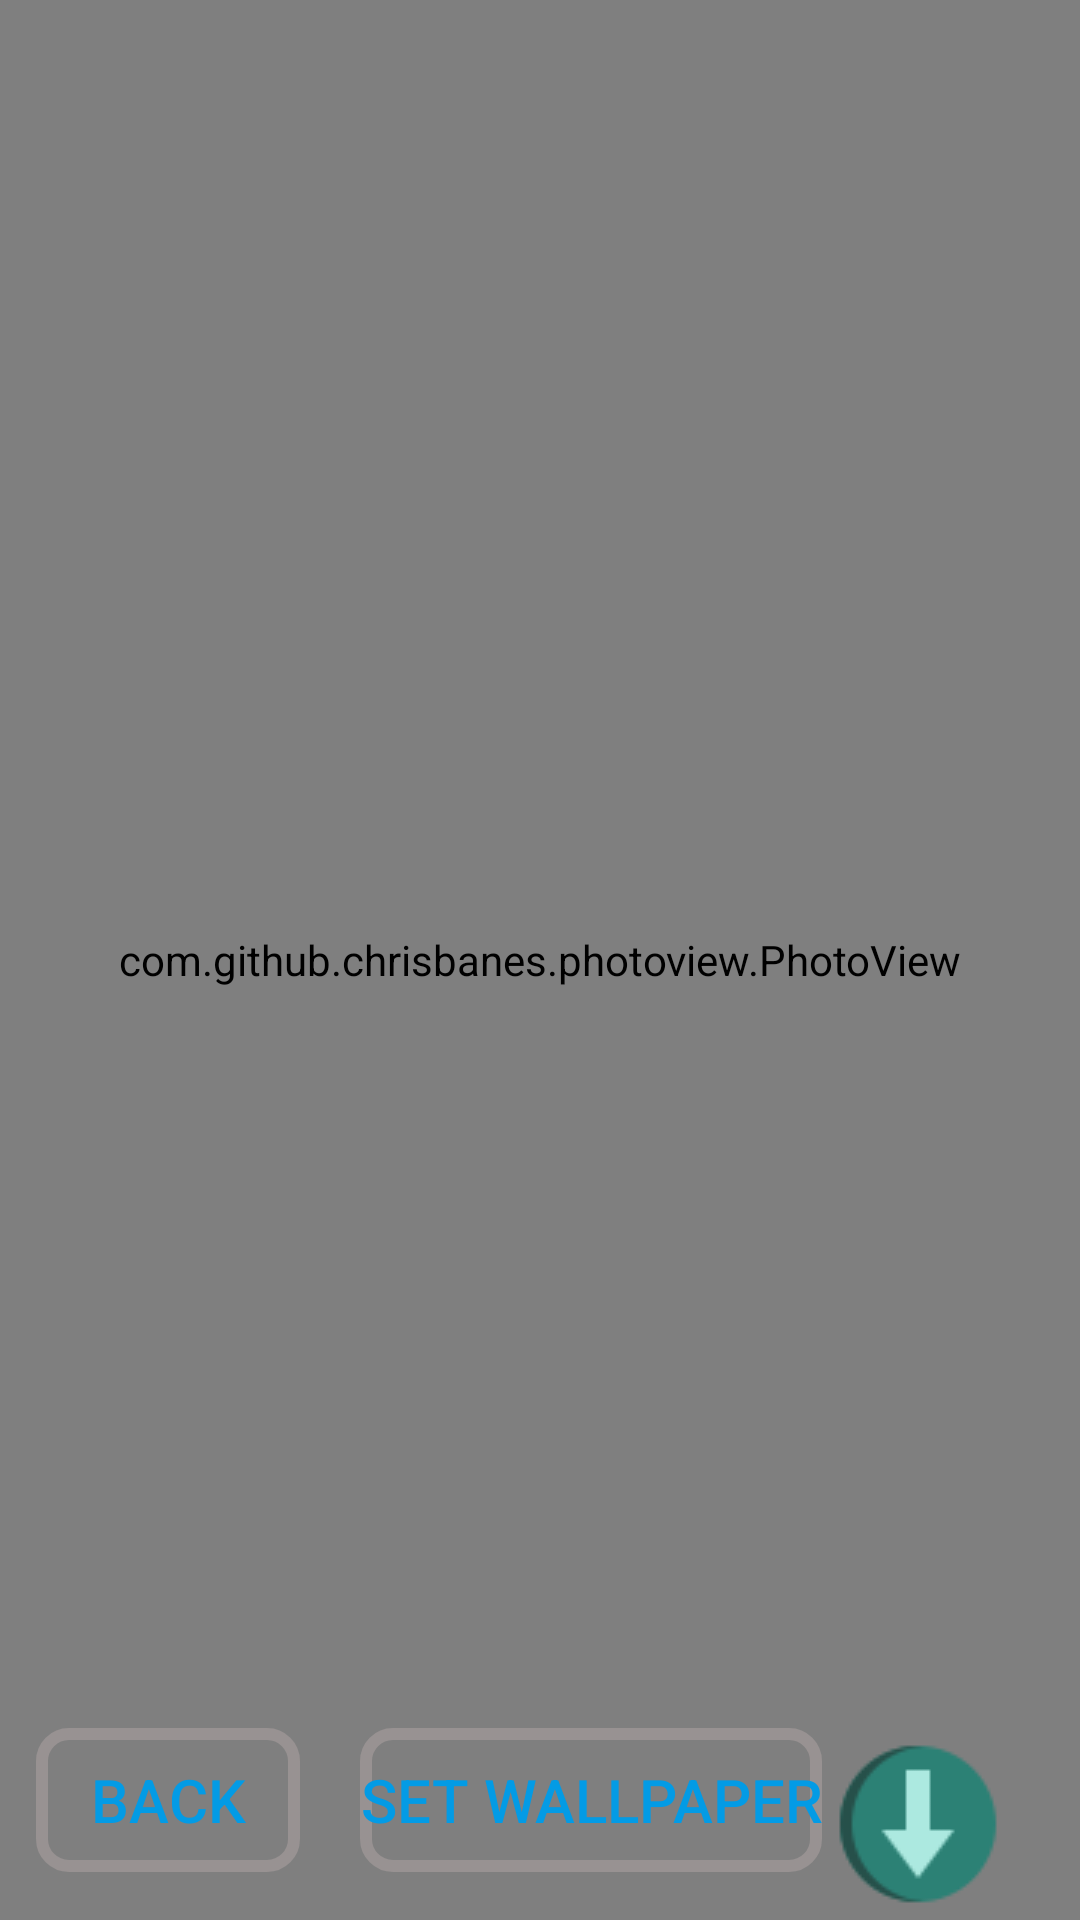

Where to tap for icons on this 1080px×1920px app screen, as (x,y):
download: (918,1824)
